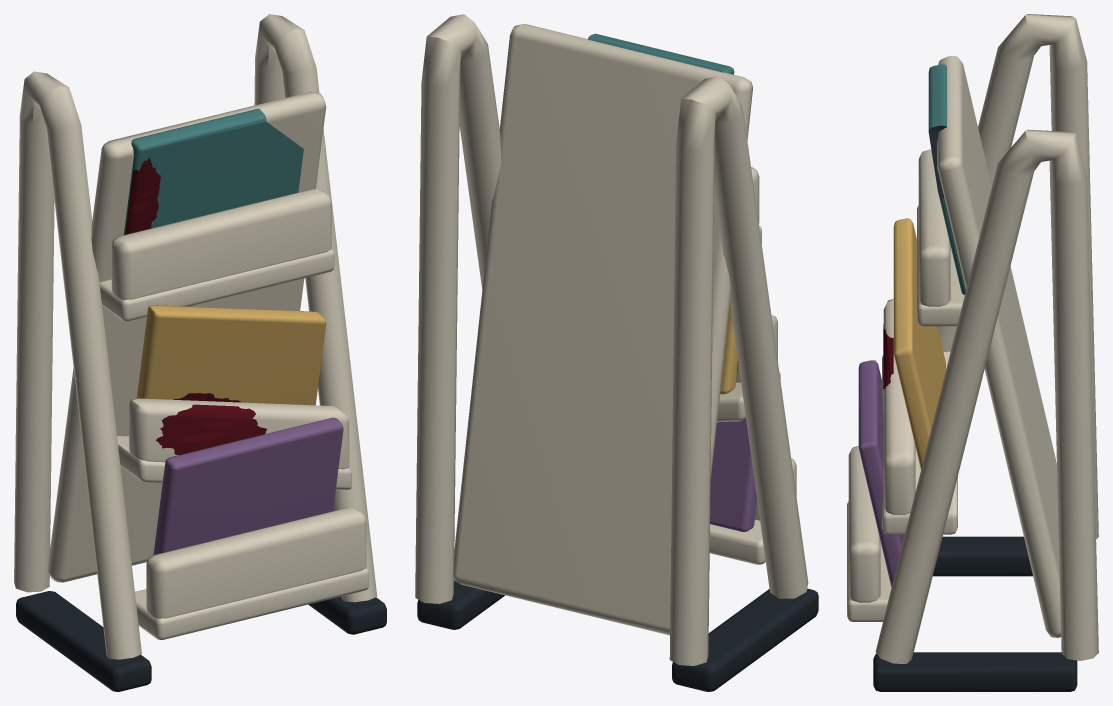
File: magazine_rack.glb
The picture shows the model from 3 angles, left to right: view 1: azimuth 30°, elevation 25°; view 2: azimuth 150°, elevation 25°; view 3: azimuth 270°, elevation 25°; orthographic projection. The views are drawn at different scales.
Visible parts, largest first — view 1: magazine_rack_Outbreak_Static; view 2: magazine_rack_Outbreak_Static; view 3: magazine_rack_Outbreak_Static.
Part boxes in pixels (x1=…): magazine_rack_Outbreak_Static: x1=14, y1=14, x2=386, y2=691; magazine_rack_Outbreak_Static: x1=415, y1=14, x2=818, y2=691; magazine_rack_Outbreak_Static: x1=847, y1=14, x2=1098, y2=691.
Size of the model in its own units: 0.55 by 1.05 by 0.432.
7 materials, 1 textured.
